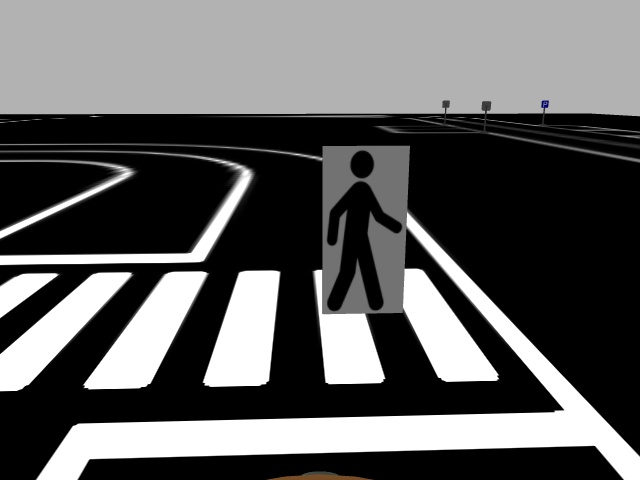parking: (539, 99, 551, 109)
pedestrian: (319, 143, 414, 315)
